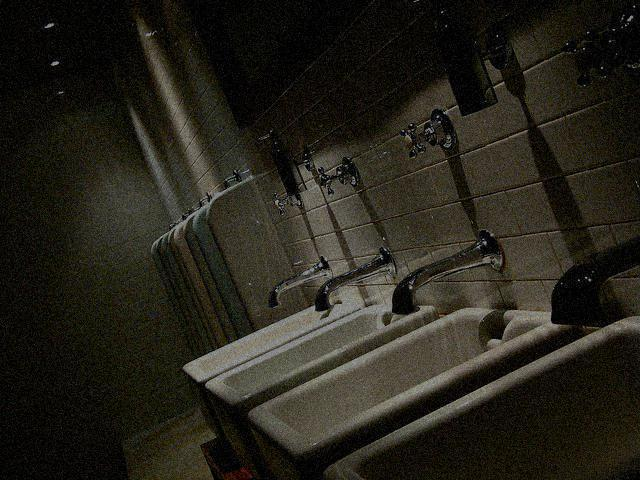Lavamanos: (249, 208, 590, 479), (319, 250, 639, 479), (208, 218, 455, 479), (181, 229, 381, 479)
